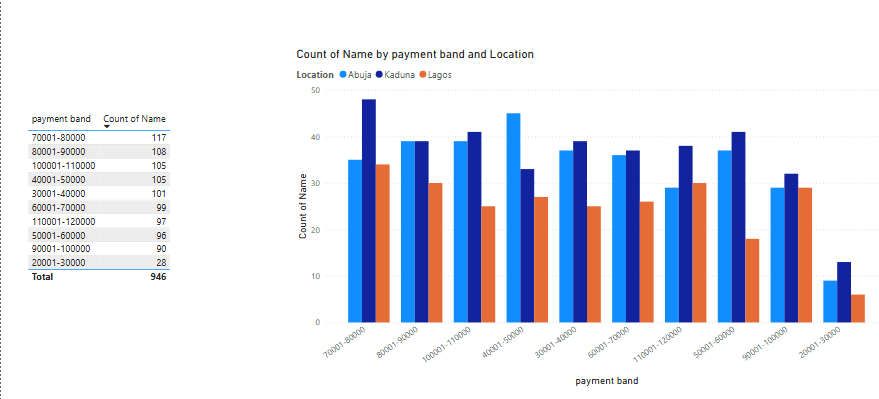

What the dashboard file says about the page in this screenshot:
{"tool":"powerbi","page":{"name":"Page 5","canvas":[1280,720],"ordinal":4},"visuals":[{"type":"tableEx","fields":{"Values":["Palmoria Group emp-data.payment band","Palmoria Group emp-data.Name"]},"box":[33.2,223.3,302.9,318.3],"z":0},{"type":"clusteredColumnChart","fields":{"Series":["Palmoria Group emp-data.Location"],"Category":["Palmoria Group emp-data.payment band"],"Y":["Palmoria Group emp-data.Name"]},"box":[420,134.9,860,493],"z":1000}]}

Visuals, with their boxes on the page's 1280x720 design canvas (x1, y1, x2, y2). These are canvas units, not pixel positions in the 879x399 screenshot, which may show the page scaled, cropped or inside an application window:
tableEx - Palmoria Group emp-data.payment band x Palmoria Group emp-data.Name: 33:223:336:542
clusteredColumnChart - Palmoria Group emp-data.Location x Palmoria Group emp-data.payment band: 420:135:1280:628
